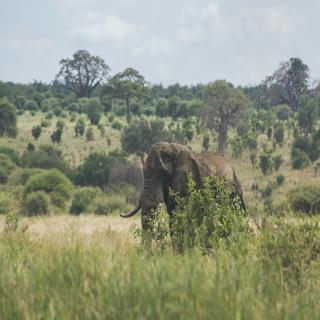Elephant: (120, 140, 253, 258)
